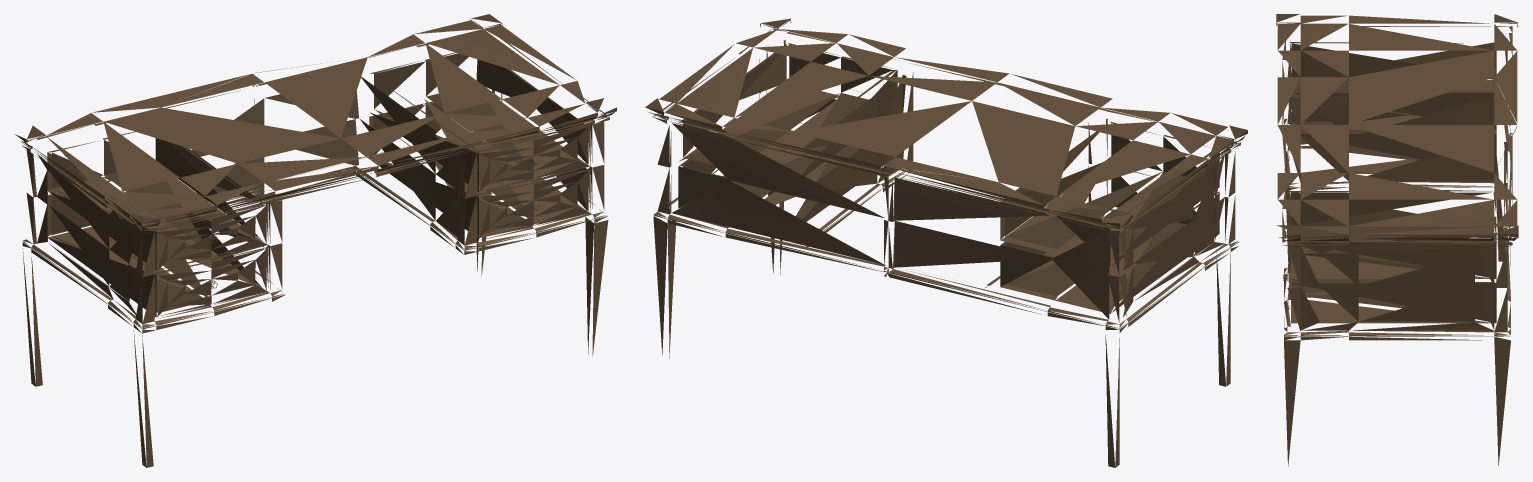
The model's file is office_desk_01.glb.
3 renders of one model, left to right at view 1: azimuth 30°, elevation 25°; view 2: azimuth 150°, elevation 25°; view 3: azimuth 270°, elevation 25°, orthographic. The views are drawn at different scales.
Parts seen in each view (by area): view 1: geometry_0; view 2: geometry_0; view 3: geometry_0.
Part boxes in pixels (box(x1,y1,x2,y2)): geometry_0: box(15, 14, 616, 467); geometry_0: box(645, 18, 1247, 467); geometry_0: box(1276, 14, 1518, 466).
Size of the model in its own units: 1.82 by 0.9225 by 0.8466.
